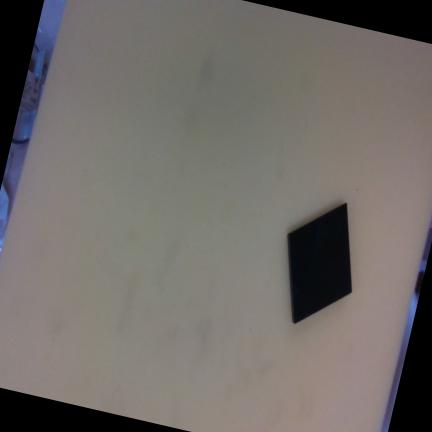tile: (287, 205, 353, 323)
